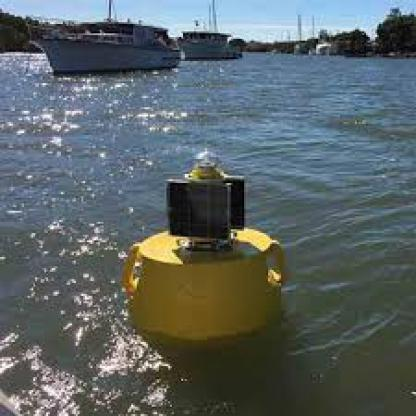buoy: (105, 141, 298, 353)
